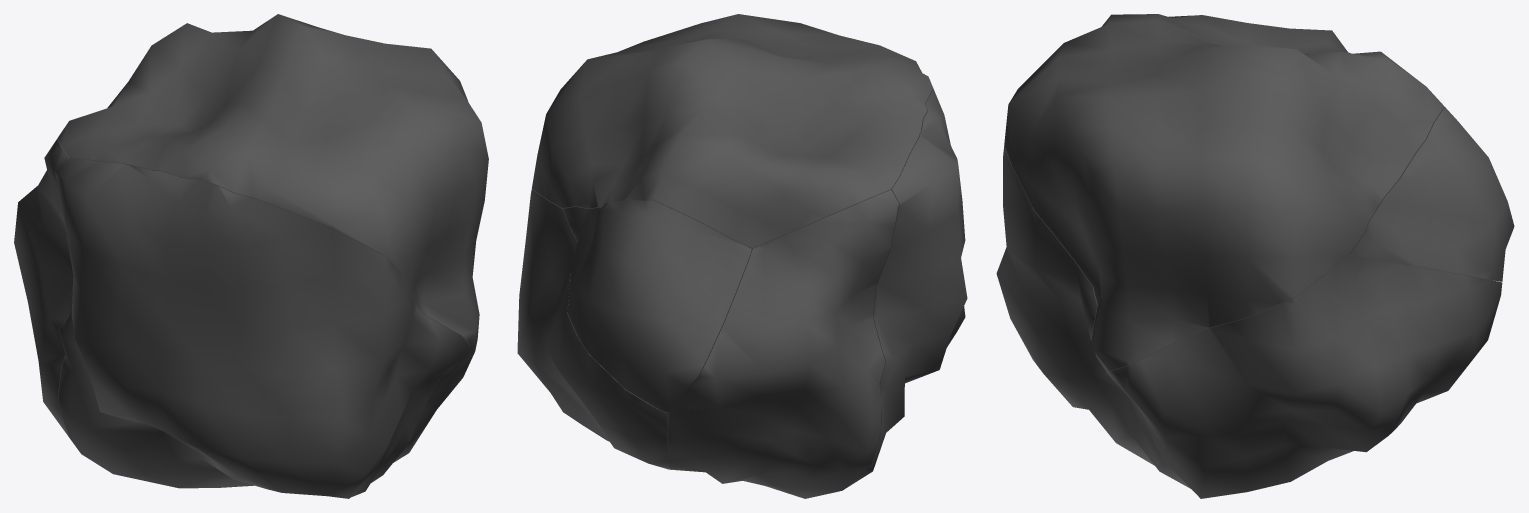
Rendered from FracturedAsteroid.glb.
3 views of the same model, side by side, from view 1: azimuth 30°, elevation 25°; view 2: azimuth 150°, elevation 25°; view 3: azimuth 270°, elevation 25° (orthographic). The views are drawn at different scales.
Parts seen in each view (by area): view 1: Asteroid_cell.003, Asteroid_cell.004, Asteroid_cell.001, Asteroid_cell; view 2: Asteroid_cell.004, Asteroid_cell.001, Asteroid_cell.002, Asteroid_cell.003, Asteroid_cell; view 3: Asteroid_cell.004, Asteroid_cell, Asteroid_cell.003, Asteroid_cell.002.
Boxes of the visible parts, x1=… form: Asteroid_cell.003: x1=55, y1=158, x2=468, y2=498; Asteroid_cell.004: x1=57, y1=14, x2=488, y2=345; Asteroid_cell.001: x1=14, y1=138, x2=73, y2=437; Asteroid_cell: x1=393, y1=319, x2=479, y2=462; Asteroid_cell.004: x1=531, y1=14, x2=932, y2=248; Asteroid_cell.001: x1=667, y1=189, x2=898, y2=498; Asteroid_cell.002: x1=563, y1=199, x2=751, y2=412; Asteroid_cell.003: x1=841, y1=88, x2=967, y2=490; Asteroid_cell: x1=517, y1=189, x2=671, y2=469; Asteroid_cell.004: x1=1004, y1=14, x2=1444, y2=370; Asteroid_cell: x1=1108, y1=255, x2=1502, y2=498; Asteroid_cell.003: x1=996, y1=15, x2=1192, y2=488; Asteroid_cell.002: x1=1349, y1=107, x2=1514, y2=281.
Bounding box in the file's own units: 1.8 × 1.8 × 1.97.
Materials: 1 (1 with a texture image).
